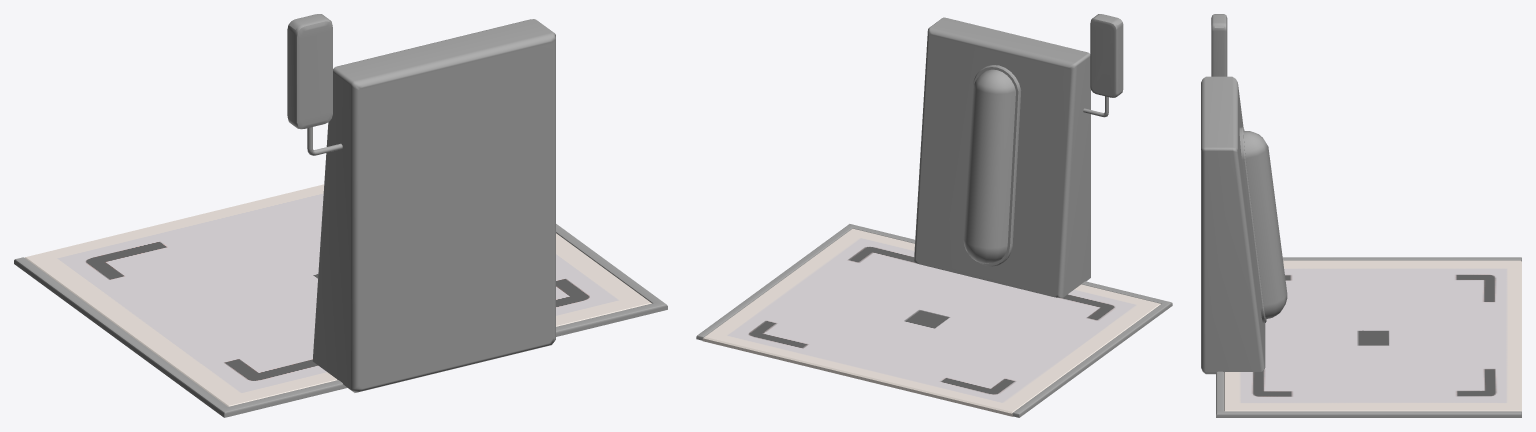
File: Charging Station_02.fbx
The picture shows the model from 3 angles, left to right: view 1: azimuth 30°, elevation 25°; view 2: azimuth 150°, elevation 25°; view 3: azimuth 270°, elevation 25°; orthographic projection. The views are drawn at different scales.
Visible parts, largest first — view 1: Machine, Tile, Corner, Battery; view 2: Tile, Machine, Chrmber, Corner, Battery; view 3: Tile, Machine, Chrmber, Corner, Battery.
Part boxes in pixels (x1,y1,x2,y2): Machine: (312, 19, 555, 392); Tile: (24, 184, 651, 406); Corner: (14, 224, 667, 417); Battery: (287, 14, 332, 129); Tile: (702, 228, 1160, 416); Machine: (914, 17, 1090, 297); Chrmber: (963, 65, 1021, 266); Corner: (696, 224, 1172, 417); Battery: (1090, 14, 1123, 97); Tile: (1224, 260, 1521, 411); Machine: (1201, 76, 1265, 374); Chrmber: (1239, 127, 1287, 323); Corner: (1216, 257, 1521, 417); Battery: (1211, 14, 1227, 76).
Bounding box in the file's own units: 10.25 × 8.32 × 8.84.
